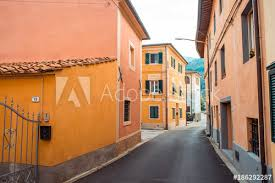strada: (32, 136, 273, 183)
